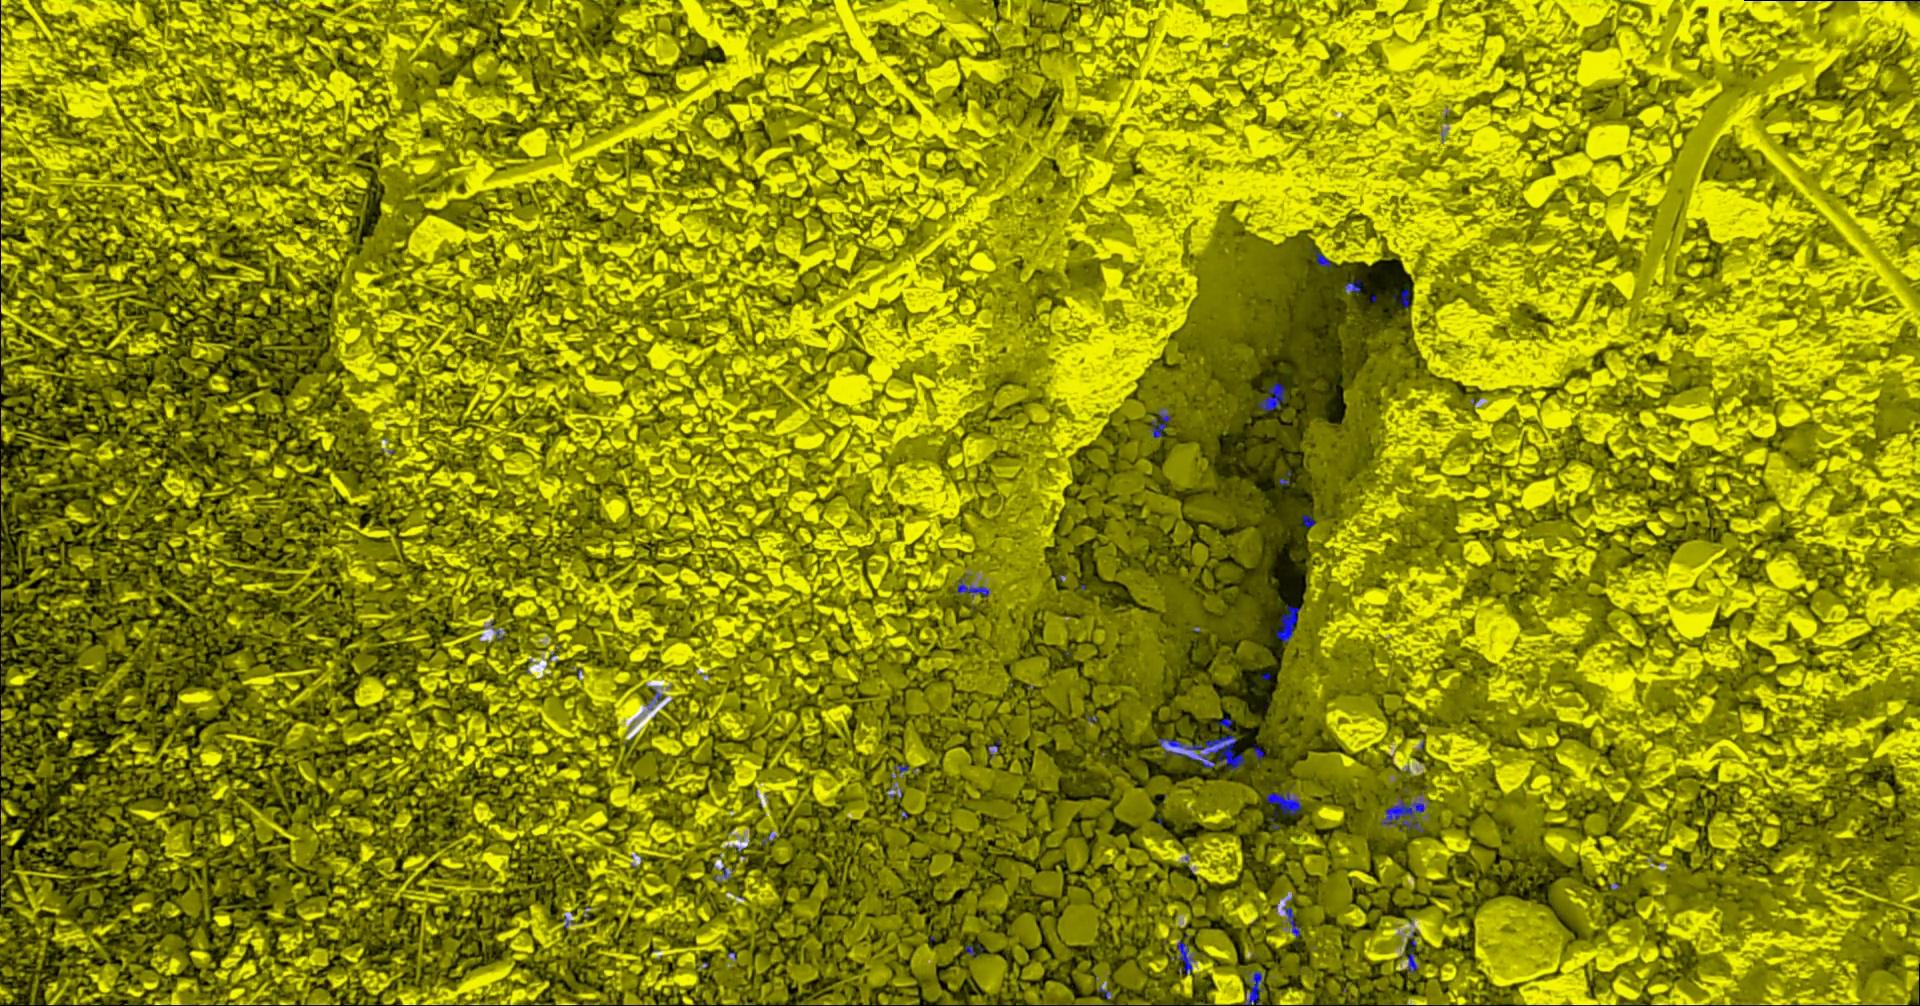ant: (1382, 796, 1426, 831), (1267, 790, 1303, 829), (1258, 381, 1288, 412), (1277, 605, 1302, 641), (1244, 969, 1265, 1005), (1175, 940, 1195, 974), (957, 577, 990, 596), (1150, 408, 1171, 438), (1284, 906, 1303, 937), (1407, 930, 1418, 973), (648, 688, 667, 709), (891, 763, 919, 776), (1394, 288, 1411, 307), (1316, 251, 1333, 267), (968, 944, 985, 956), (1346, 279, 1363, 292), (1255, 744, 1267, 761), (1304, 514, 1316, 527)
